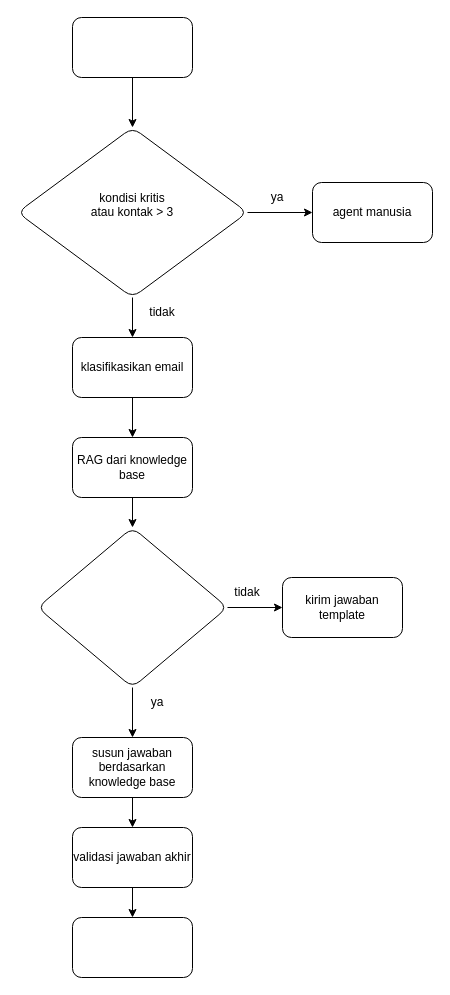
Some shapes in this 450 by 995 pixel diagram are drawn without their labels. The box of each missing label's shape, as (x1, y1, x2, y2) in pixels:
kirim jawaban: (72, 916, 192, 978)
Relevansi jelas: (36, 526, 228, 688)
Terima email: (72, 16, 192, 78)
